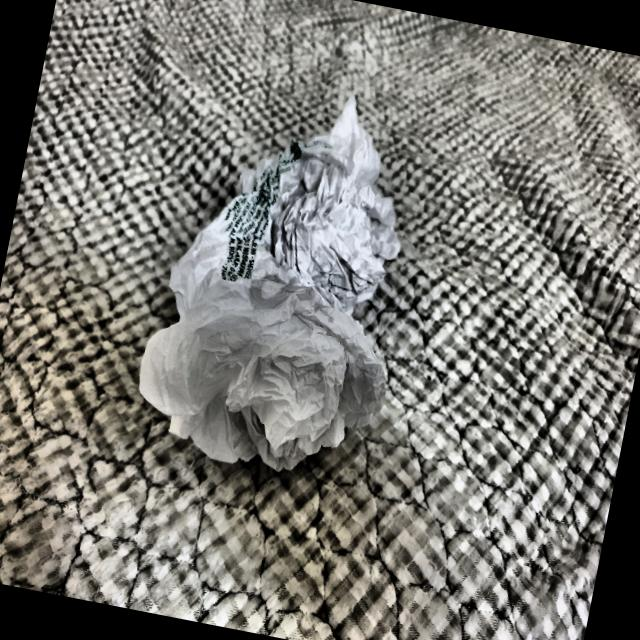plastic bag: (110, 51, 456, 500)
